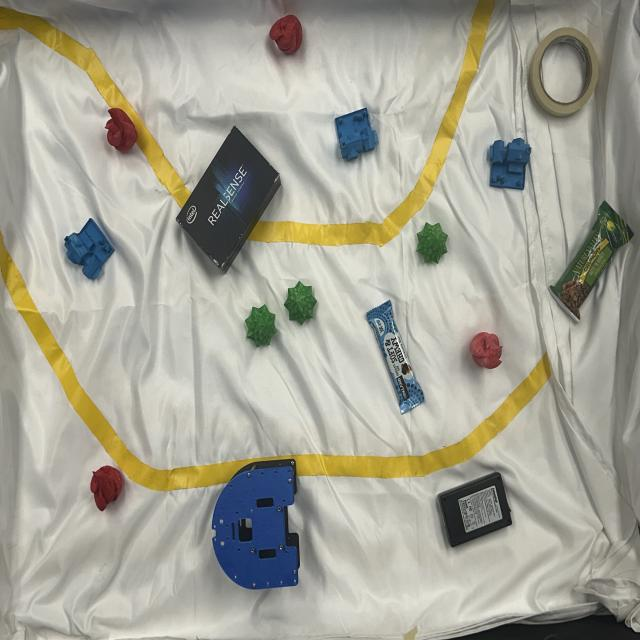fire: (87, 462, 125, 512), (105, 102, 139, 157), (268, 16, 306, 56), (472, 330, 504, 370)
house: (66, 218, 114, 280), (486, 136, 532, 192), (334, 108, 379, 162)
tree: (284, 281, 319, 327), (244, 304, 278, 349), (416, 221, 449, 267)
